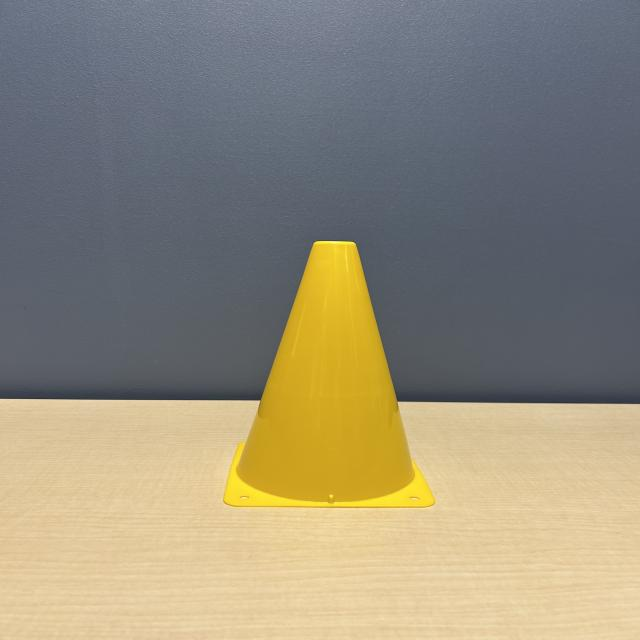yellow cone: (211, 234, 444, 513)
